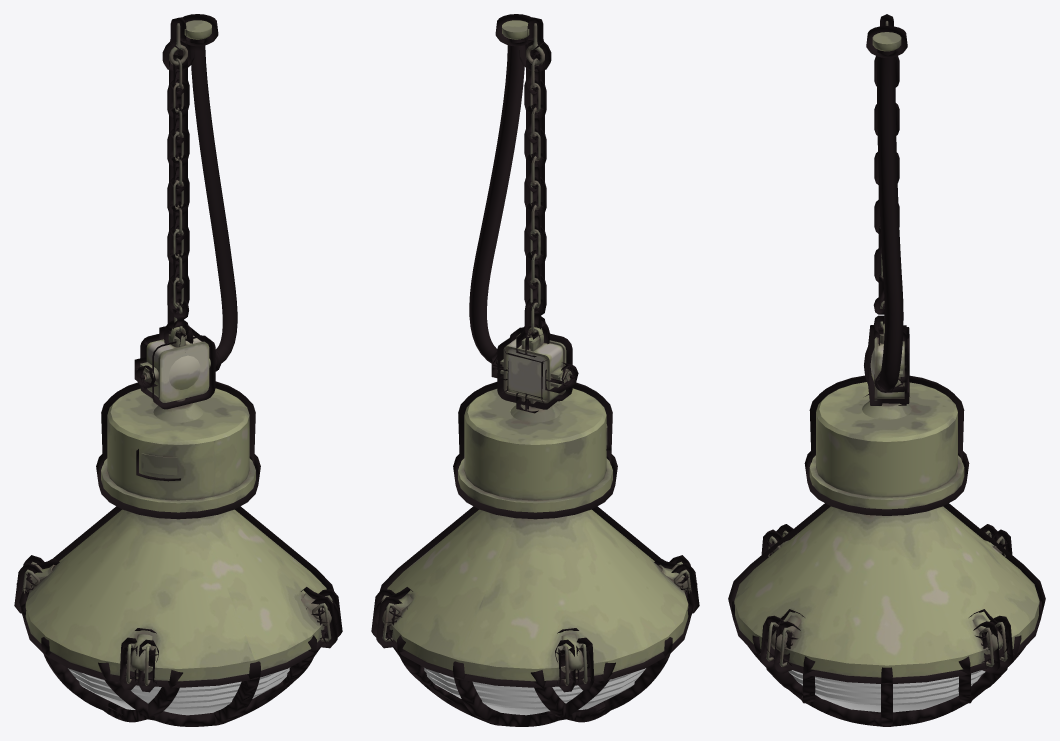
File: SM_Int_IndustrialLamp.fbx
3 views of the same model, side by side, from view 1: azimuth 30°, elevation 25°; view 2: azimuth 150°, elevation 25°; view 3: azimuth 270°, elevation 25° (orthographic).
Parts seen in each view (by area): view 1: SM_Int_IndustrialLamp; view 2: SM_Int_IndustrialLamp; view 3: SM_Int_IndustrialLamp.
Part boxes in pixels (x1,y1,x2,y2): SM_Int_IndustrialLamp: (14,14,342,726); SM_Int_IndustrialLamp: (371,14,699,726); SM_Int_IndustrialLamp: (728,14,1045,726).
Size of the model in its own units: 0.3798 by 0.9132 by 0.3798.
